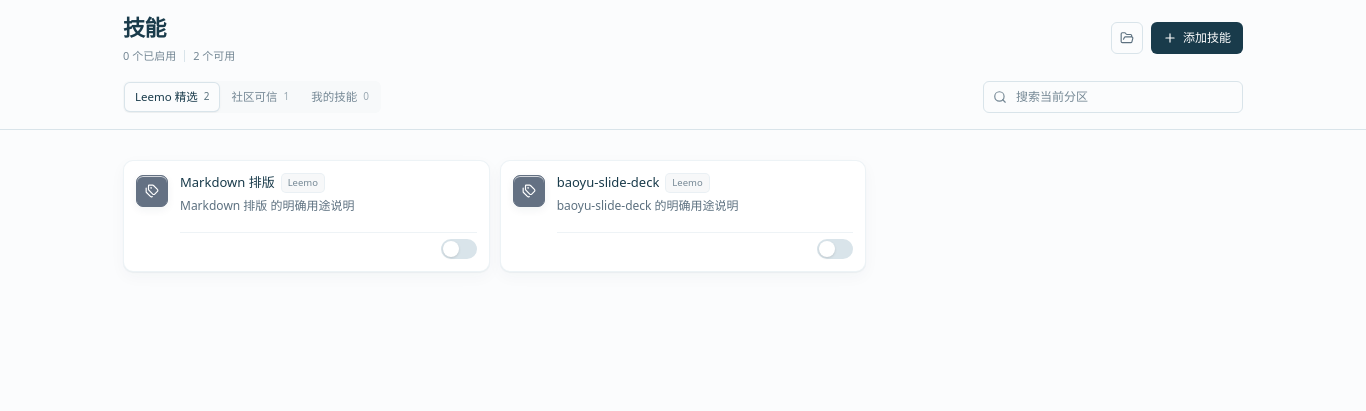
Test case: SkillsPage — product-facing sections › hides community download cards whose runtime Skill is already bundled
The image size is (1366, 411).
Click the tab "社区可信 1" at (260, 96), box x1=221 y1=82 x2=299 y2=110
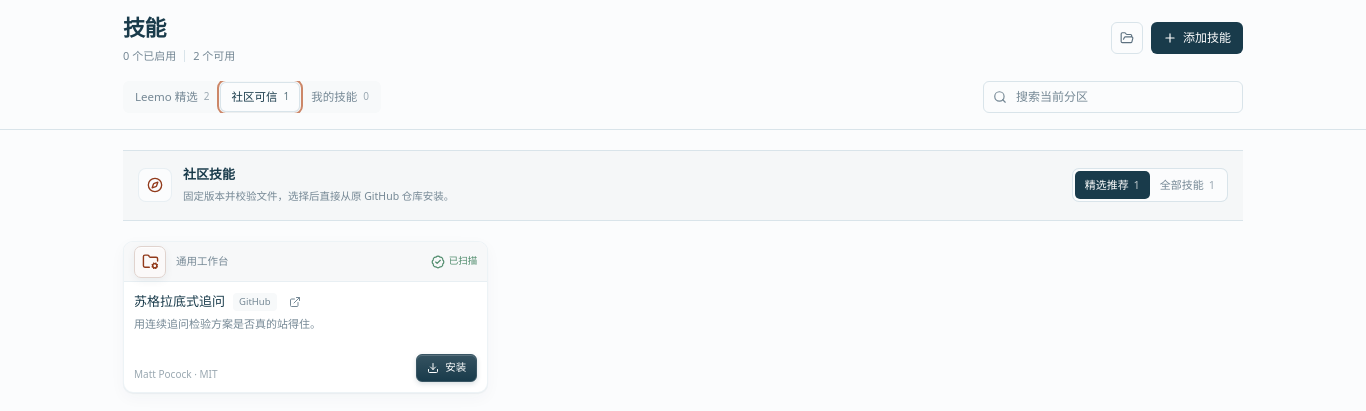
Check: the button "Markdown 排版" is gone
Check: the button "苏格拉底式追问" is shown, box x1=134 y1=292 x2=225 y2=312
